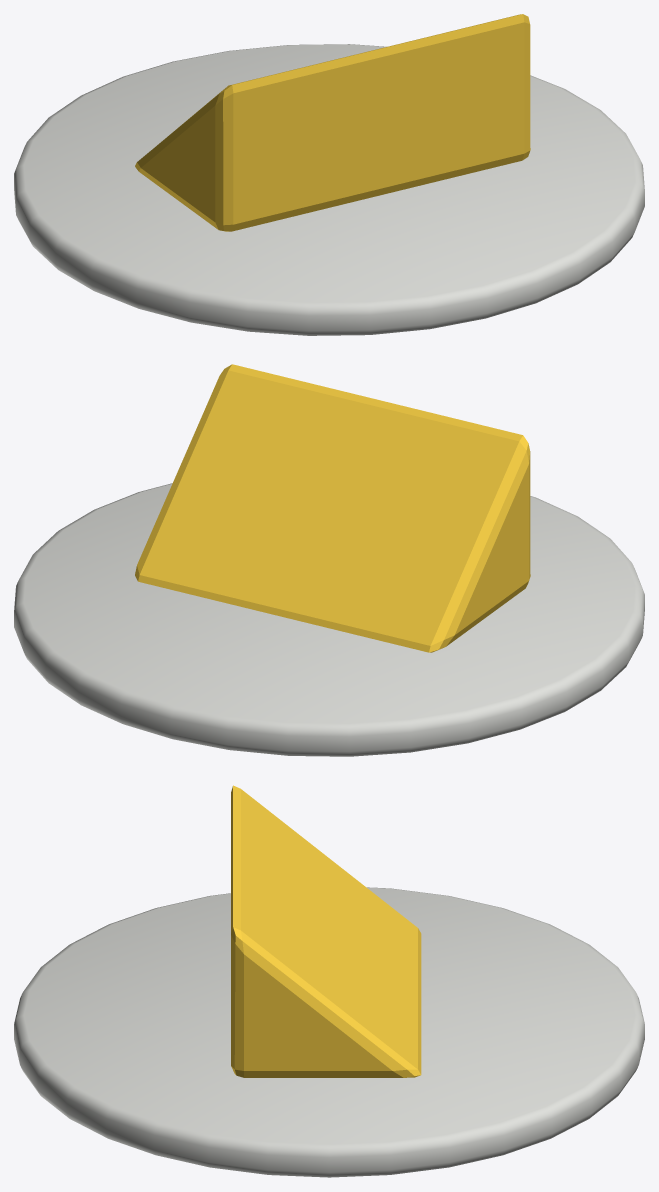
Rendered from IconCheese.fbx.
The picture shows the model from 3 angles, top to bottom: view 1: azimuth 30°, elevation 25°; view 2: azimuth 150°, elevation 25°; view 3: azimuth 270°, elevation 25°; orthographic projection.
Visible parts, largest first — view 1: IconDisc.001, CheeseSymbol; view 2: IconDisc.001, CheeseSymbol; view 3: IconDisc.001, CheeseSymbol.
Part boxes in pixels (<box>): IconDisc.001: <box>14,44,644,335</box>; CheeseSymbol: <box>135,14,530,231</box>; IconDisc.001: <box>14,483,644,756</box>; CheeseSymbol: <box>135,364,530,652</box>; IconDisc.001: <box>14,887,644,1177</box>; CheeseSymbol: <box>231,785,421,1077</box>.
Bounding box in the file's own units: 0.96 × 0.322 × 0.96.
